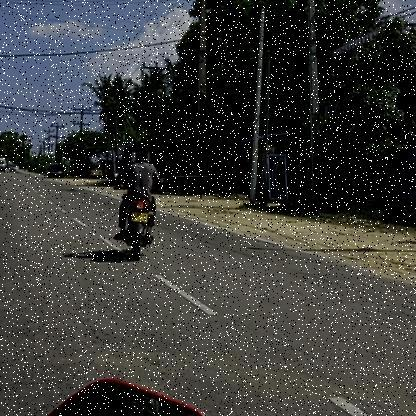motorcycle: (109, 195, 162, 264)
